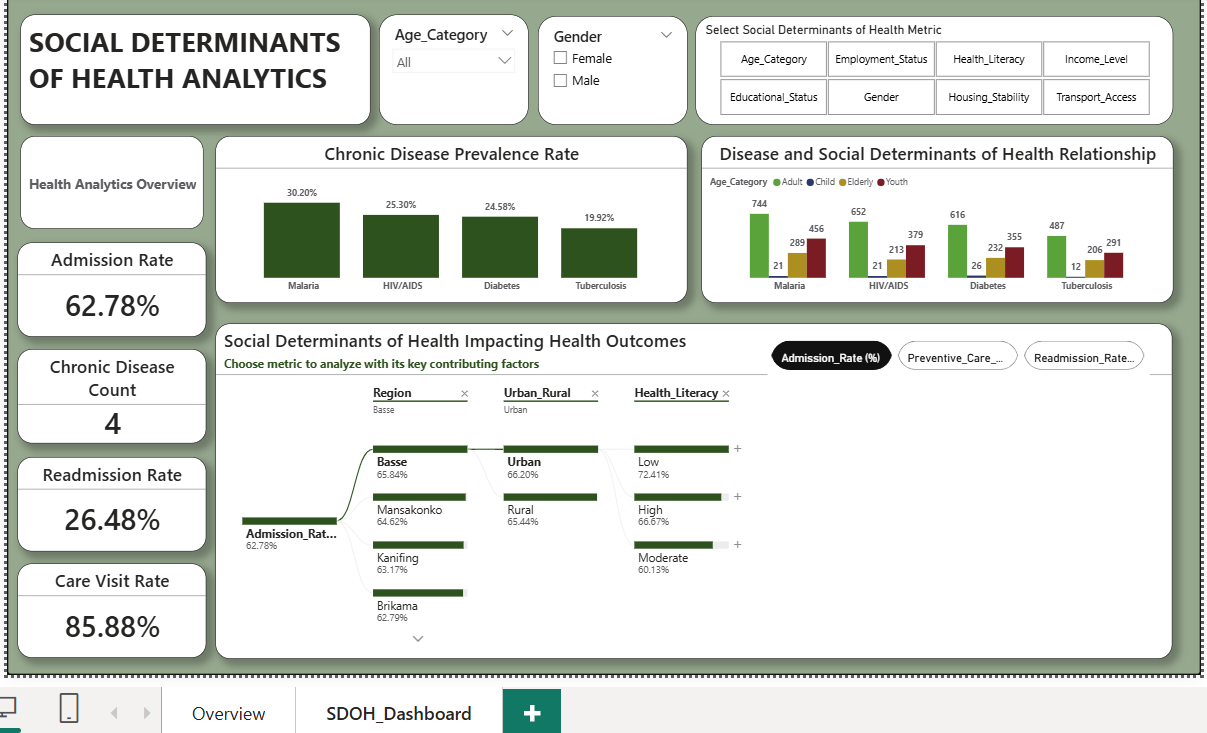

This screenshot's page, from the dashboard's own definition file:
{"tool":"powerbi","page":{"name":"SDOH_Dashboard","canvas":[1644,936],"ordinal":1},"visuals":[{"type":"textbox","box":[18,26,482,152],"z":0},{"type":"card","title":"Admission Rate","fields":{"Values":["Calculation.Admission_Rate (%)"]},"box":[14,340,260,130],"z":1000},{"type":"card","title":"Readmission Rate","fields":{"Values":["Calculation.Readmission_Rate (%)"]},"box":[14,636,260,130],"z":2000},{"type":"card","title":"Care Visit Rate","fields":{"Values":["Calculation.Preventive_Care_Visit_Rate (%)"]},"box":[14,784,260,130],"z":3000},{"type":"card","title":"Chronic Disease Count","fields":{"Values":["Calculation.Chronic_Disease_Count"]},"box":[14,488,260,130],"z":4000},{"type":"card","title":"% Female Population","fields":{"Values":["Calculation.Female_Population(%)"]},"box":[1282,634,260,100],"z":5000},{"type":"columnChart","title":"Chronic Disease Prevalence  Rate","fields":{"Y":["CountNonNull(Health_Link1.Id)"],"Category":["Health_Link1.Chronic_Disease"]},"box":[288,194,650,230],"z":6000},{"type":"slicer","fields":{"Values":["Health_Link1.Age_Category"]},"box":[512,26,206,152],"z":7000},{"type":"slicer","fields":{"Values":["Health_Link1.Gender"]},"box":[732,28,206,150],"z":8000},{"type":"clusteredColumnChart","title":" Disease and Social Determinants of Health Relationship","fields":{"Series":["Health_Link1.Health_Literacy"],"Category":["Health_Link1.Chronic_Disease"],"Y":["CountNonNull(Health_Link1.Id)"]},"box":[956,194,650,230],"z":9000},{"type":"slicer","title":"Select Social Determinants of Health Metric","fields":{"Values":["SDOH.SDOH"]},"box":[948,28,658,150],"z":10000},{"type":"decompositionTreeVisual","title":"Social Determinants of Health Impacting Health Outcomes","fields":{"Analyze":["Calculation.Preventive_Care_Visit_Rate (%)"],"ExplainBy":["Health_Link1.Region","Health_Link1.Urban_Rural","Health_Link1.Health_Literacy","Health_Link1.Employment_Status","Health_Link1.Income_Level","Health_Link1.Educational_Status","Health_Link1.Housing_Stability","Health_Link1.Transport_Access","Health_Link1.Age_Category","Health_Link1.Gender"]},"box":[288,452,1318,462],"z":11000},{"type":"advancedSlicerVisual","fields":{"Values":["SDOH_Metrics.SDOH_Metrics"]},"box":[1048,472,526,50],"z":12000},{"type":"actionButton","box":[18,194,252,128],"z":13000}]}

Visuals, with their boxes on the page's 1644x936 design canvas (x1, y1, x2, y2). These are canvas units, not pixel positions in the 1207x733 screenshot, which may show the page scaled, cropped or inside an application window:
textbox: bbox=[18, 26, 500, 178]
"Admission Rate" card: bbox=[14, 340, 274, 470]
"Readmission Rate" card: bbox=[14, 636, 274, 766]
"Care Visit Rate" card: bbox=[14, 784, 274, 914]
"Chronic Disease Count" card: bbox=[14, 488, 274, 618]
"% Female Population" card: bbox=[1282, 634, 1542, 734]
"Chronic Disease Prevalence  Rate" columnChart: bbox=[288, 194, 938, 424]
slicer - Health_Link1.Age_Category: bbox=[512, 26, 718, 178]
slicer - Health_Link1.Gender: bbox=[732, 28, 938, 178]
" Disease and Social Determinants of Health Relationship" clusteredColumnChart: bbox=[956, 194, 1606, 424]
"Select Social Determinants of Health Metric" slicer: bbox=[948, 28, 1606, 178]
"Social Determinants of Health Impacting Health Outcomes" decompositionTreeVisual: bbox=[288, 452, 1606, 914]
advancedSlicerVisual - SDOH_Metrics.SDOH_Metrics: bbox=[1048, 472, 1574, 522]
actionButton: bbox=[18, 194, 270, 322]
